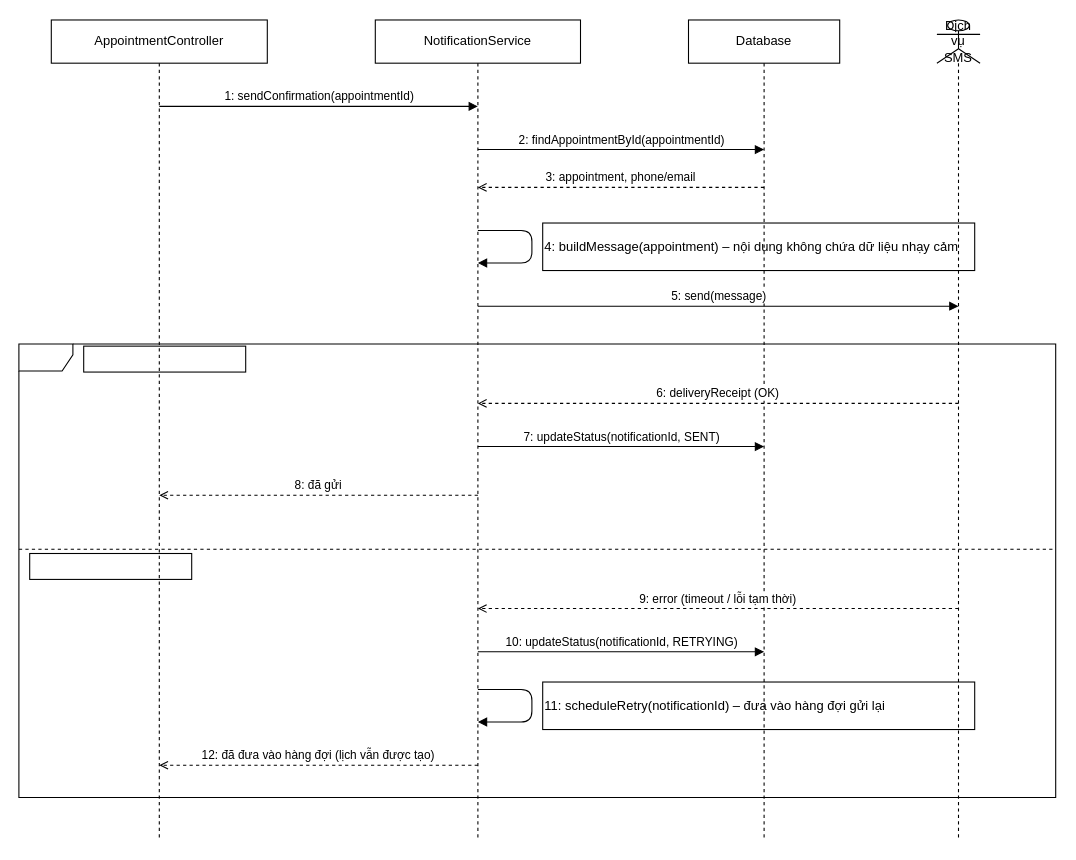
Image size: 1076x860. Some labels were removed from this diagram. The shapes that lost their labels are listed below. From the top down, each one's centre as x and y in pixels, then its label:
At (164,358): "[Gửi thành công]".
At (110,565): "[Lỗi tạm thời]".
At (537,570): "alt".
